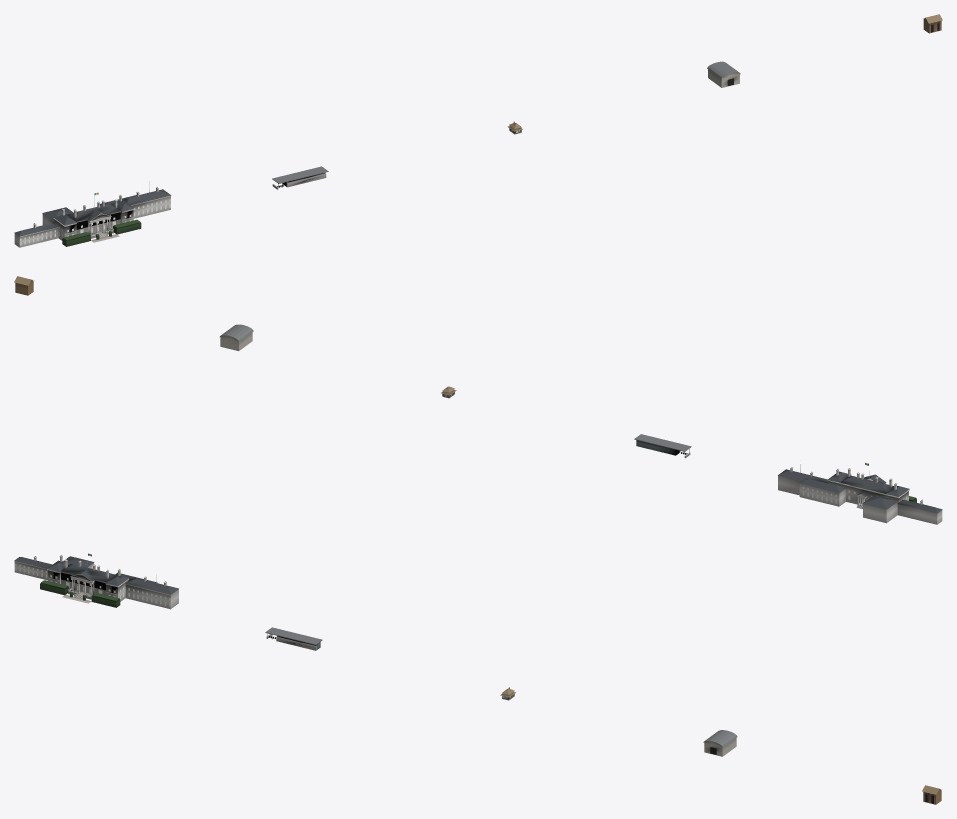
File: aras.glb
3 renders of one model, top to bottom at view 1: azimuth 30°, elevation 25°; view 2: azimuth 150°, elevation 25°; view 3: azimuth 330°, elevation 25°, orthographic.
Visible parts, largest first — view 1: aras_stucco, aras_slate, aras_hedge; view 2: aras_stucco, aras_slate; view 3: aras_stucco, aras_slate, aras_hedge.
Part boxes in pixels (box(x1,y1,x2,y2)): aras_stucco: box(14, 187, 170, 247); aras_slate: box(14, 189, 171, 236); aras_hedge: box(62, 219, 141, 246); aras_stucco: box(778, 467, 942, 524); aras_slate: box(778, 469, 942, 513); aras_stucco: box(14, 555, 178, 609); aras_slate: box(14, 556, 178, 594); aras_hedge: box(40, 580, 120, 607).
Bounding box in the file's own units: 658 × 26 × 37.3.
